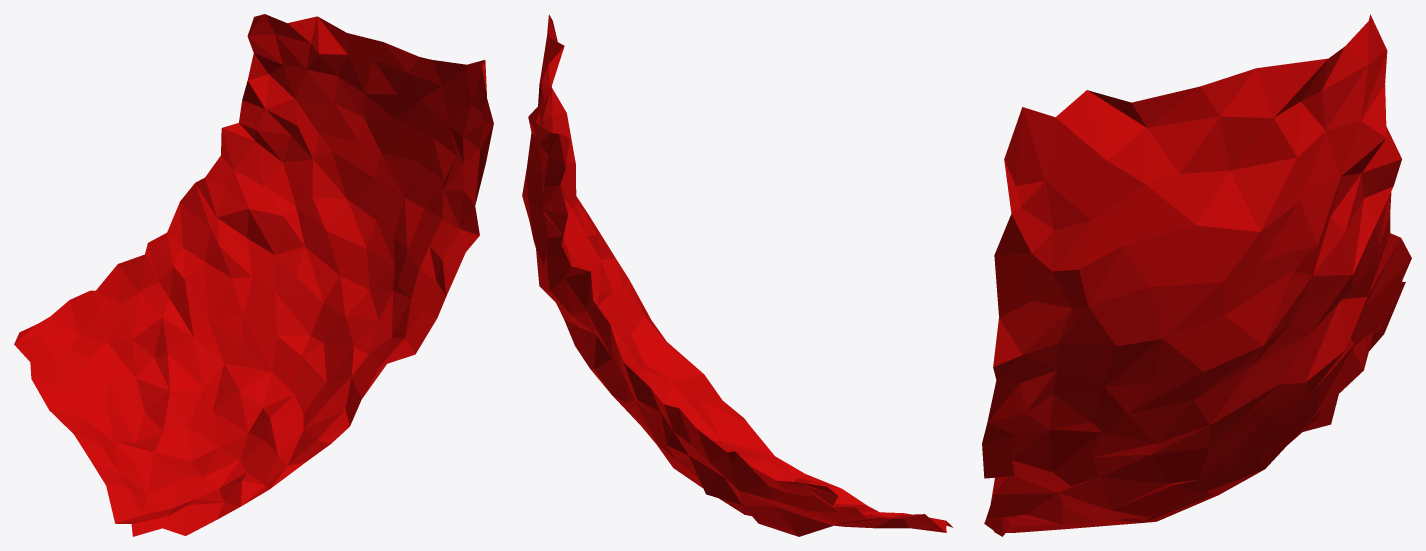
Rendered from Backdropp04.fbx.
3 views of the same model, side by side, from view 1: azimuth 30°, elevation 25°; view 2: azimuth 150°, elevation 25°; view 3: azimuth 270°, elevation 25° (orthographic). The views are drawn at different scales.
Visible parts, largest first — view 1: Backdropp04; view 2: Backdropp04; view 3: Backdropp04.
Part boxes in pixels (left/top/right/bottom): Backdropp04: left=14, top=14, right=493, bottom=536; Backdropp04: left=522, top=14, right=953, bottom=536; Backdropp04: left=982, top=14, right=1411, bottom=536.
Bounding box in the file's own units: 54467 × 55078 × 33236.
